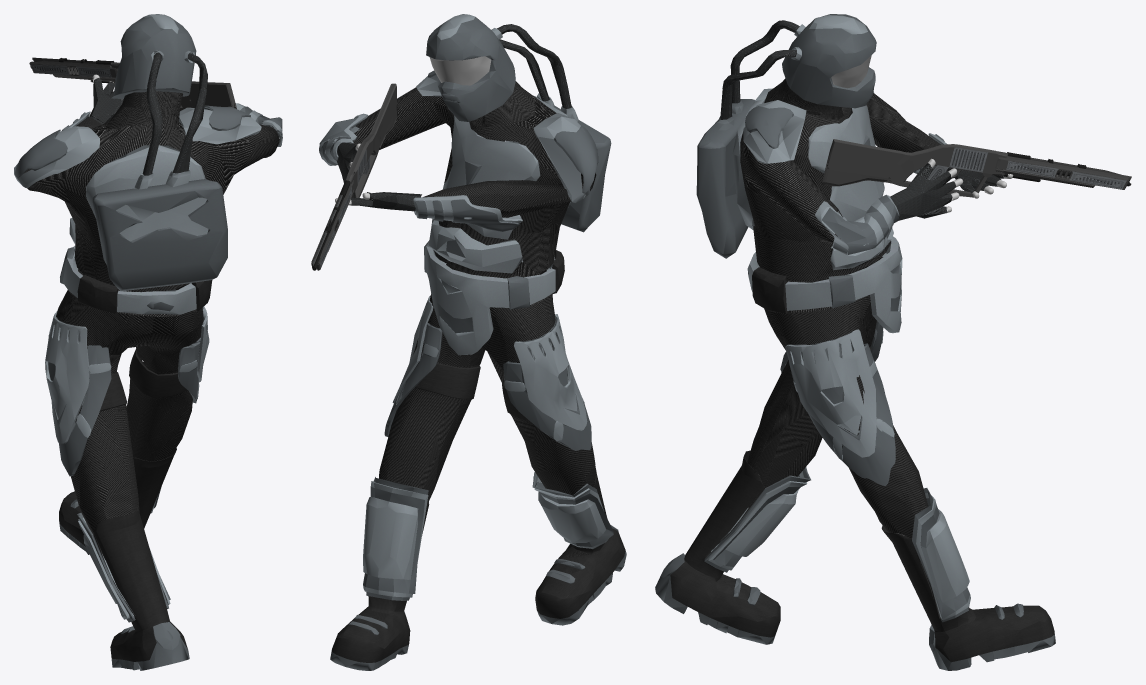
The picture shows the model from 3 angles, left to right: view 1: azimuth 30°, elevation 25°; view 2: azimuth 150°, elevation 25°; view 3: azimuth 270°, elevation 25°; orthographic projection. The views are drawn at different scales.
Parts seen in each view (by area): view 1: personaje:extrudedSurface2 polySurface72, personaje:PANTALON polySurface72, personaje:CAMISETABUENA polySurface72, personaje:bota1 polySurface72, personaje:pPipe4 polySurface72, personaje:cosoarmdaurapierna1 polySurface72, personaje:cinturon polySurface72, personaje:pCube4 polySurface72, escopeta:Cylinder001 polySurface72, personaje:polySurface6 polySurface72, personaje:polySurface11 polySurface72, personaje:HOMBRO2 polySurface72 (+3 smaller); view 2: personaje:PANTALON polySurface72, personaje:CAMISETABUENA polySurface72, personaje:pPipe4 polySurface72, personaje:bota1 polySurface72, personaje:extrudedSurface2 polySurface72, personaje:armadbota1 polySurface72, personaje:cinturon polySurface72, personaje:pCube4 polySurface72, personaje:cosoarmdaurapierna1 polySurface72, escopeta:Cylinder001 polySurface72, personaje:polySurface6 polySurface72, personaje:HOMBRO2 polySurface72 (+6 smaller); view 3: personaje:bota1 polySurface72, personaje:CAMISETABUENA polySurface72, personaje:extrudedSurface2 polySurface72, personaje:PANTALON polySurface72, personaje:pPipe4 polySurface72, personaje:pCube4 polySurface72, escopeta:Cylinder001 polySurface72, personaje:cinturon polySurface72, personaje:armadbota1 polySurface72, personaje:cosoarmadurapierna2 polySurface72, personaje:hombro1 polySurface72, personaje:partearmdBRAZO2 polySurface72 (+1 smaller).
Part boxes in pixels (x1,y1,x2,y2): personaje:extrudedSurface2 polySurface72: [92, 14, 227, 291]; personaje:PANTALON polySurface72: [56, 269, 203, 559]; personaje:CAMISETABUENA polySurface72: [24, 91, 279, 316]; personaje:bota1 polySurface72: [59, 448, 189, 670]; personaje:pPipe4 polySurface72: [14, 78, 282, 244]; personaje:cosoarmdaurapierna1 polySurface72: [45, 311, 111, 443]; personaje:cinturon polySurface72: [60, 246, 212, 314]; personaje:pCube4 polySurface72: [48, 289, 209, 622]; escopeta:Cylinder001 polySurface72: [29, 57, 236, 110]; personaje:polySurface6 polySurface72: [99, 349, 187, 411]; personaje:polySurface11 polySurface72: [142, 52, 162, 175]; personaje:HOMBRO2 polySurface72: [15, 129, 67, 177]; personaje:PANTALON polySurface72: [379, 262, 595, 504]; personaje:CAMISETABUENA polySurface72: [353, 58, 596, 306]; personaje:pPipe4 polySurface72: [319, 74, 590, 273]; personaje:bota1 polySurface72: [330, 468, 626, 670]; personaje:extrudedSurface2 polySurface72: [426, 14, 611, 232]; personaje:armadbota1 polySurface72: [363, 476, 608, 597]; personaje:cinturon polySurface72: [424, 236, 564, 355]; personaje:pCube4 polySurface72: [363, 296, 613, 600]; personaje:cosoarmdaurapierna1 polySurface72: [504, 314, 587, 441]; escopeta:Cylinder001 polySurface72: [311, 83, 397, 270]; personaje:polySurface6 polySurface72: [415, 363, 530, 421]; personaje:HOMBRO2 polySurface72: [554, 126, 598, 193]; personaje:bota1 polySurface72: [655, 450, 1055, 670]; personaje:CAMISETABUENA polySurface72: [740, 78, 940, 312]; personaje:extrudedSurface2 polySurface72: [696, 14, 876, 258]; personaje:PANTALON polySurface72: [747, 249, 928, 561]; personaje:pPipe4 polySurface72: [732, 88, 1003, 270]; personaje:pCube4 polySurface72: [704, 321, 969, 622]; escopeta:Cylinder001 polySurface72: [822, 139, 1131, 197]; personaje:cinturon polySurface72: [747, 236, 902, 333]; personaje:armadbota1 polySurface72: [708, 471, 970, 620]; personaje:cosoarmadurapierna2 polySurface72: [789, 343, 895, 485]; personaje:hombro1 polySurface72: [745, 106, 793, 148]; personaje:partearmdBRAZO2 polySurface72: [815, 195, 899, 255].
Bounding box in the file's own units: 4.26 × 9.47 × 6.26.
